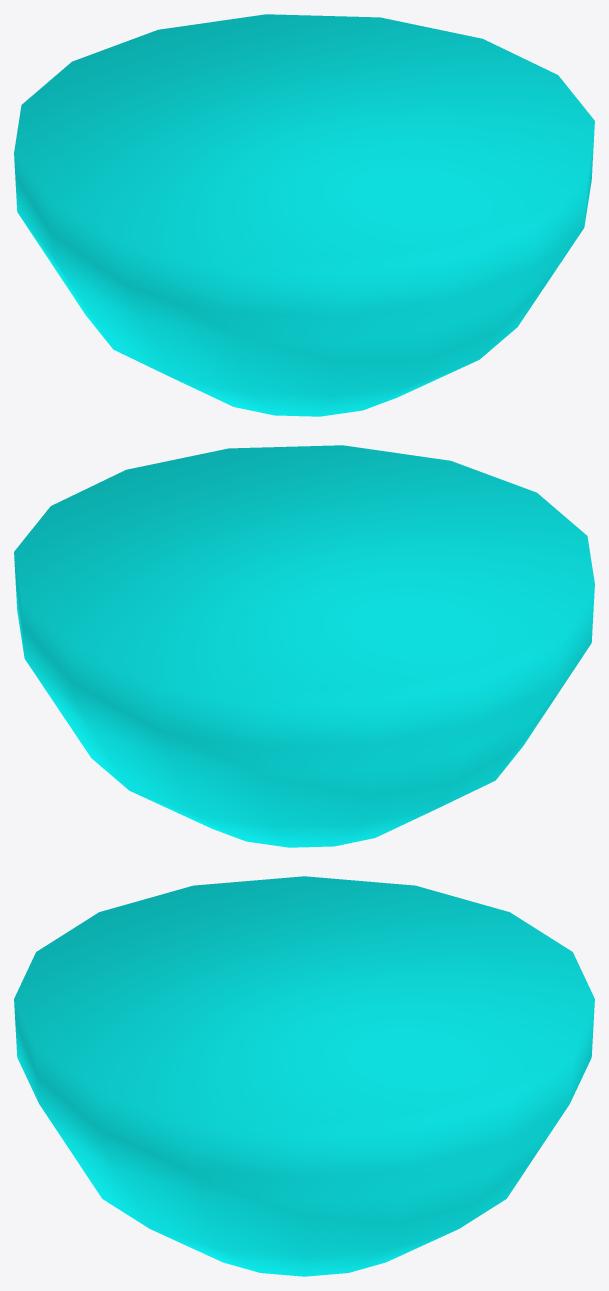
The model's file is WaterDrop_30.glb.
3 views of the same model, one above another, from view 1: azimuth 30°, elevation 25°; view 2: azimuth 150°, elevation 25°; view 3: azimuth 270°, elevation 25° (orthographic).
Visible parts, largest first — view 1: WaterDrop_30; view 2: WaterDrop_30; view 3: WaterDrop_30.
Boxes of the visible parts, x1,y1,x2,y2 form: WaterDrop_30: (14, 14, 594, 416); WaterDrop_30: (14, 445, 594, 847); WaterDrop_30: (14, 876, 594, 1276).
Bounding box in the file's own units: 0.5806 × 0.2674 × 0.5806.
Materials: 1 (1 with a texture image).
